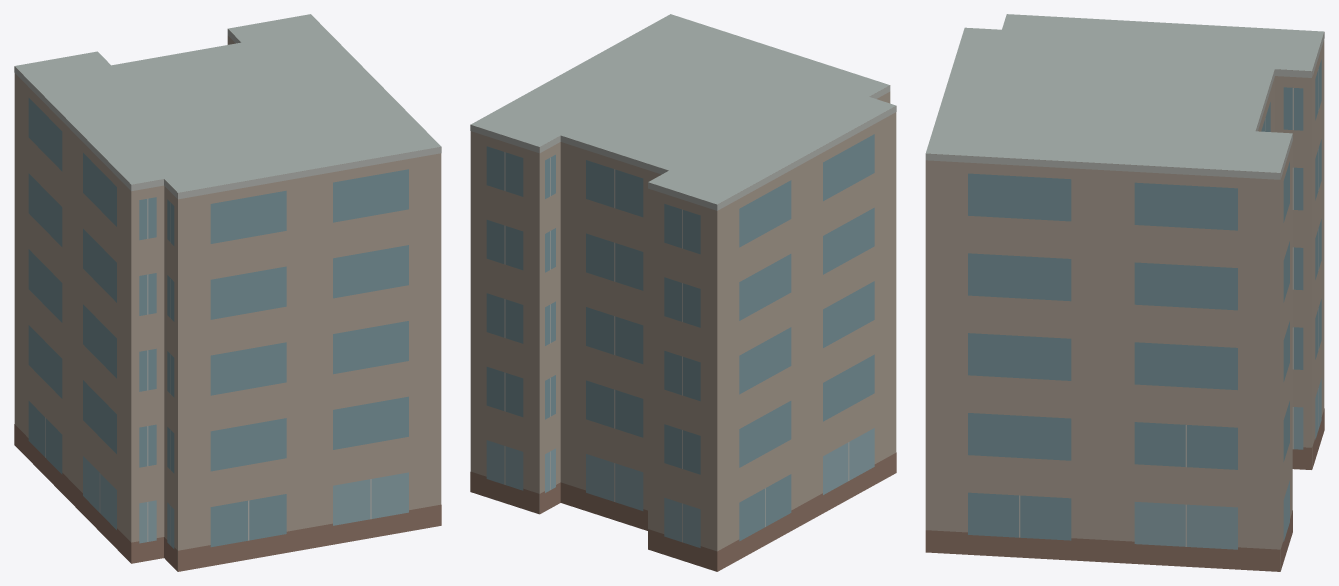
Rendered from survey-upis-32980075.glb.
3 views of the same model, side by side, from view 1: azimuth 30°, elevation 25°; view 2: azimuth 150°, elevation 25°; view 3: azimuth 270°, elevation 25° (orthographic). The views are drawn at different scales.
Parts seen in each view (by area): view 1: survey-upis-32980075.tmp; view 2: survey-upis-32980075.tmp; view 3: survey-upis-32980075.tmp.
Part boxes in pixels (x1,y1,x2,y2): survey-upis-32980075.tmp: (14, 14, 441, 571); survey-upis-32980075.tmp: (470, 14, 896, 571); survey-upis-32980075.tmp: (925, 14, 1324, 571).
Size of the model in its own units: 12.15 by 14.2 by 12.88.
